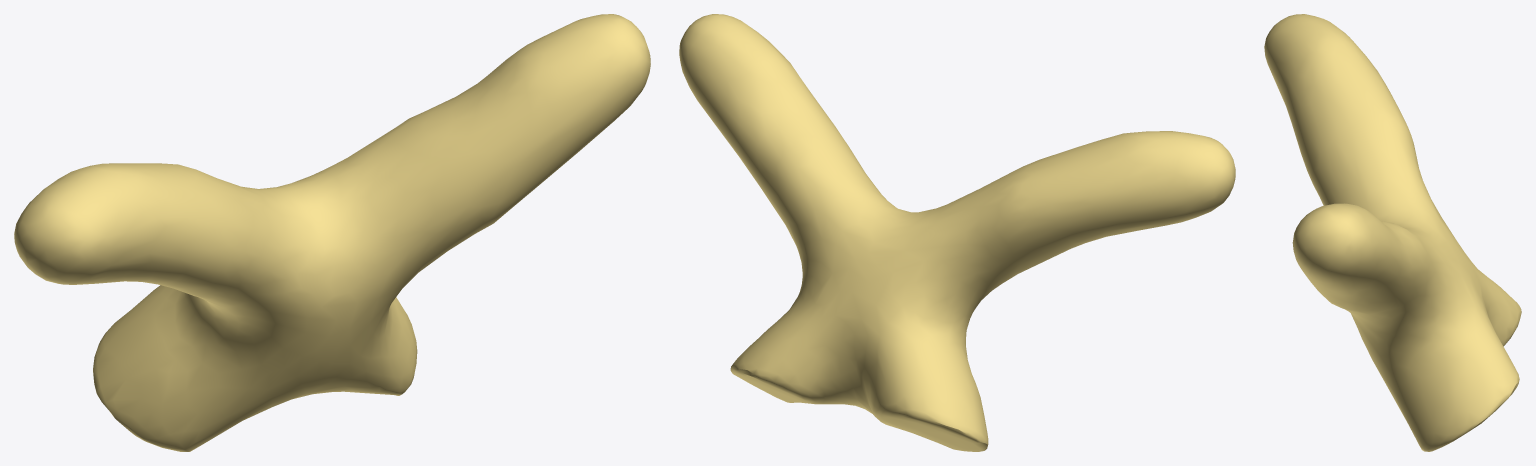
Rendered from fma72452_mm2750.glb.
3 views of the same model, side by side, from view 1: azimuth 30°, elevation 25°; view 2: azimuth 150°, elevation 25°; view 3: azimuth 270°, elevation 25° (orthographic). The views are drawn at different scales.
Visible parts, largest first — view 1: FMA72452_MM2750; view 2: FMA72452_MM2750; view 3: FMA72452_MM2750.
Boxes of the visible parts, box(x1,y1,x2,y2) form: FMA72452_MM2750: box(14, 14, 650, 451); FMA72452_MM2750: box(679, 14, 1235, 451); FMA72452_MM2750: box(1264, 14, 1521, 451).
Size of the model in its own units: 0.00841 by 0.00489 by 0.00378.
